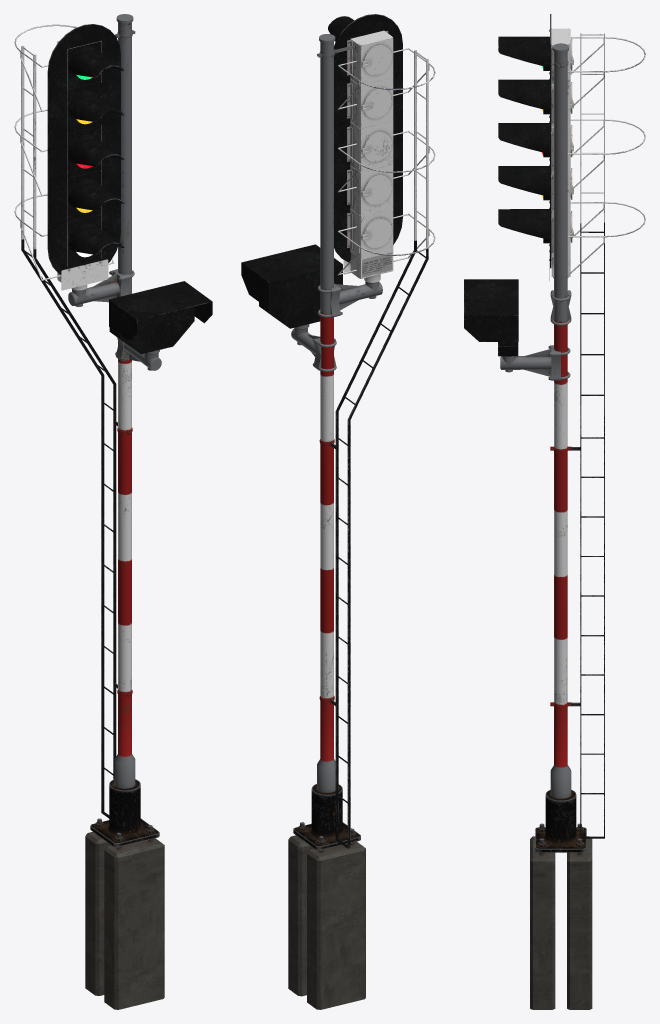
The model's file is PL5AspectMainWSpeed.fbx.
The picture shows the model from 3 angles, left to right: view 1: azimuth 30°, elevation 25°; view 2: azimuth 210°, elevation 25°; view 3: azimuth 270°, elevation 25°; orthographic projection. The views are drawn at different scales.
Parts seen in each view (by area): view 1: PL5AspectMain, LocationSign; view 2: PL5AspectMain; view 3: PL5AspectMain.
Boxes of the visible parts, bbox=[...] form: PL5AspectMain: bbox=[14, 14, 212, 1009]; LocationSign: bbox=[61, 259, 108, 290]; PL5AspectMain: bbox=[241, 14, 435, 1009]; PL5AspectMain: bbox=[464, 14, 645, 1009].
Size of the model in its own units: 99.25 by 776 by 133.
